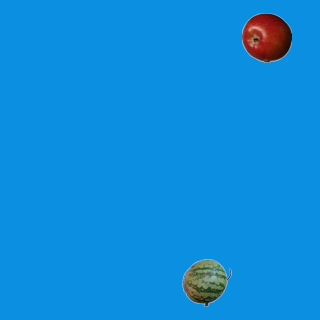Apple Braeburn: (241, 12, 291, 62)
Watermelon: (181, 257, 231, 307)
